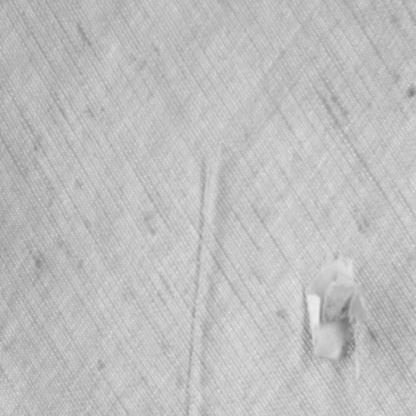objects: (178, 142, 226, 416), (301, 252, 376, 382)
